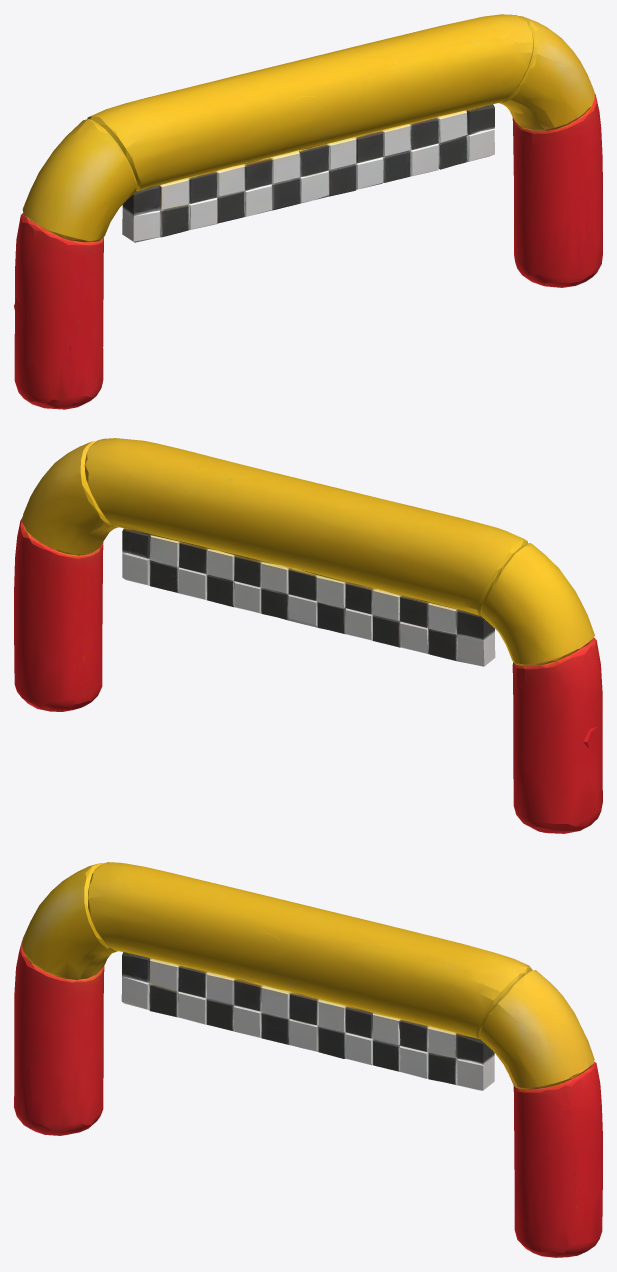
Rendered from finishArch.glb.
3 views of the same model, one above another, from view 1: azimuth 30°, elevation 25°; view 2: azimuth 150°, elevation 25°; view 3: azimuth 330°, elevation 25° (orthographic).
Parts seen in each view (by area): view 1: model; view 2: model; view 3: model.
Boxes of the visible parts, x1,y1,x2,y2 form: model: [14, 14, 602, 409]; model: [14, 438, 602, 833]; model: [14, 862, 602, 1257].
Bounding box in the file's own units: 1.89 × 0.871 × 0.2503.
1 material, 1 textured.
